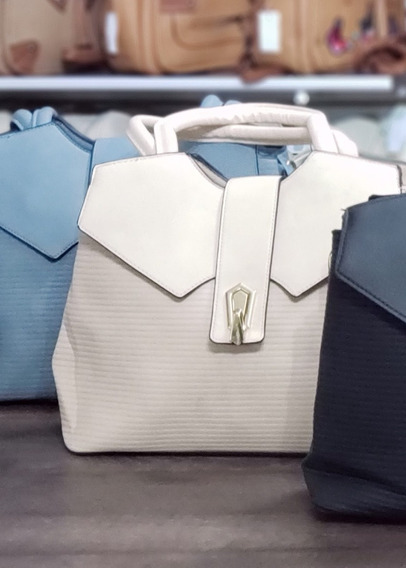cartera: (47, 97, 406, 457)
